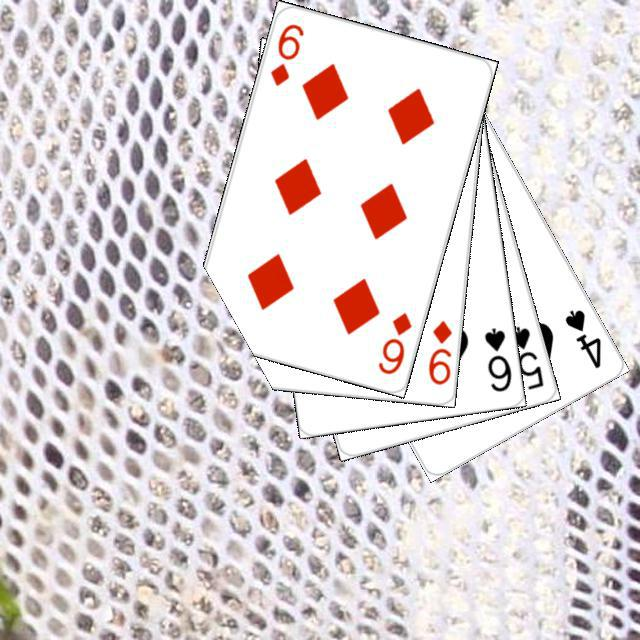4s: (559, 304, 603, 371)
5s: (504, 321, 545, 392)
6d: (373, 307, 414, 376), (265, 19, 306, 88)
6s: (479, 323, 513, 393)
9d: (423, 315, 454, 387)
